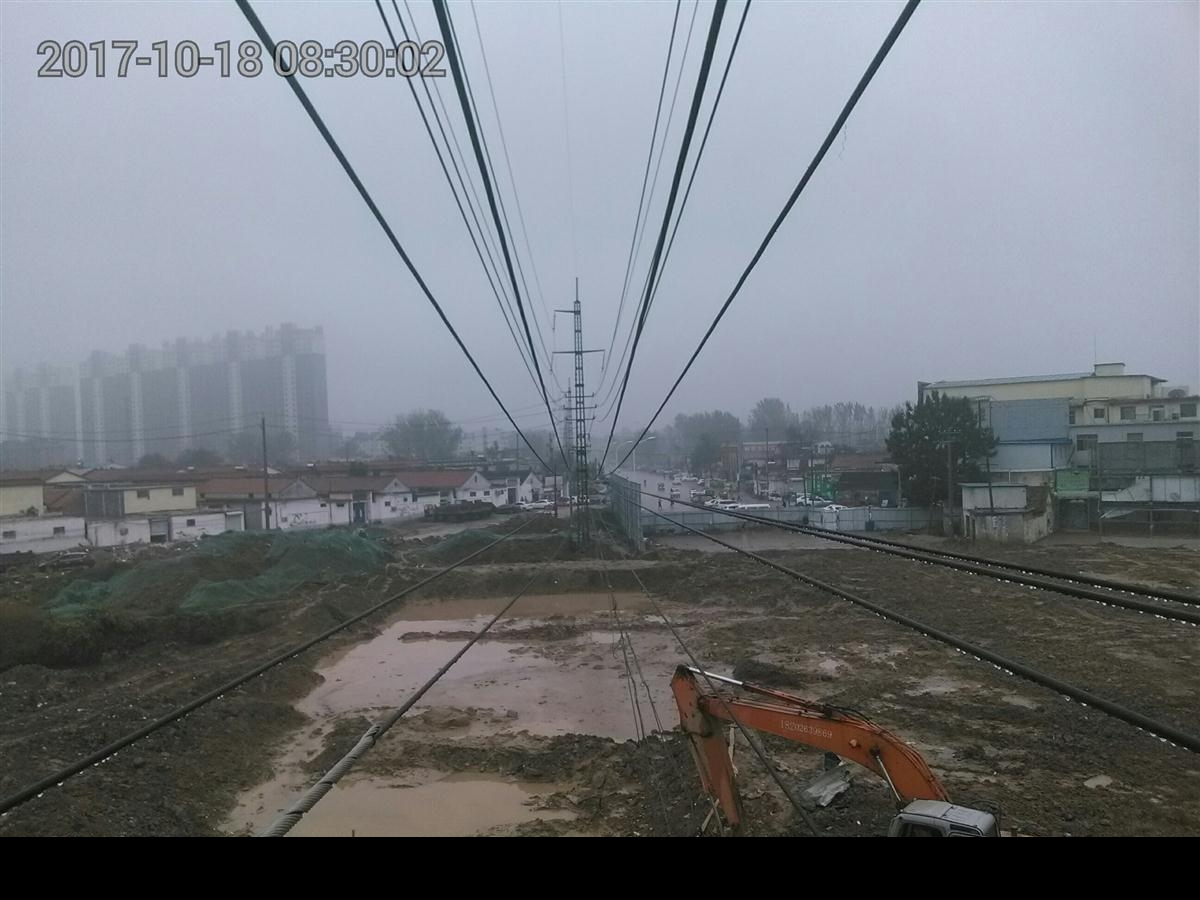ShiGongJiXie: (668, 662, 1009, 833)
